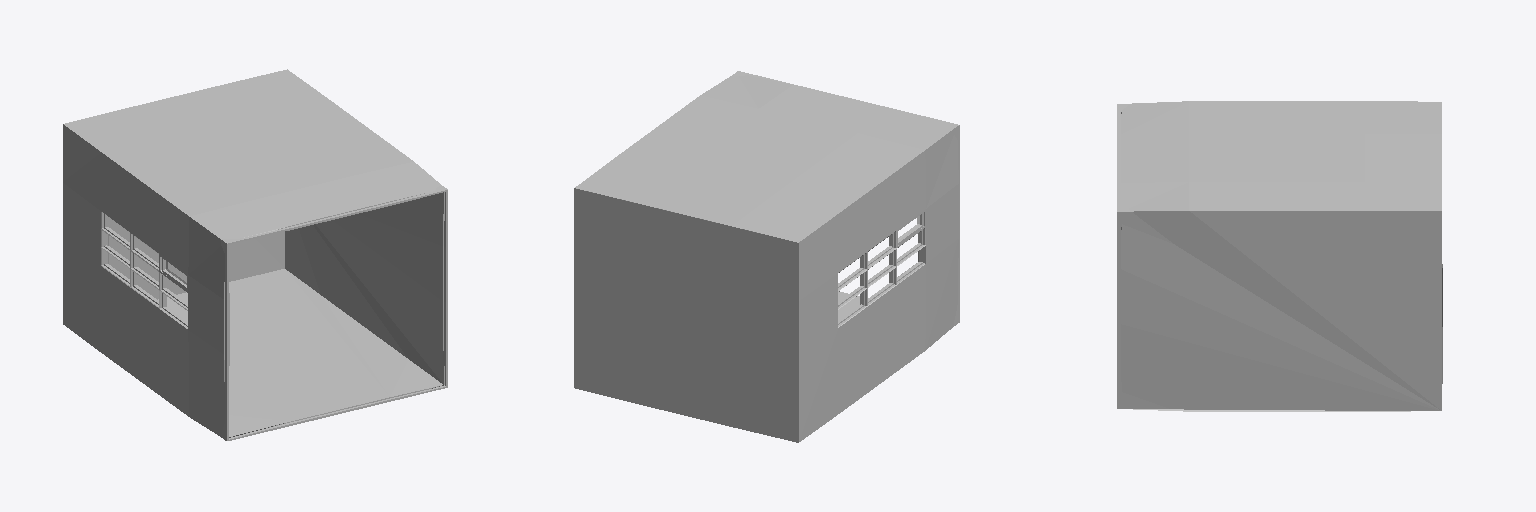
The model's file is Room.obj.
3 renders of one model, left to right at view 1: azimuth 30°, elevation 25°; view 2: azimuth 150°, elevation 25°; view 3: azimuth 270°, elevation 25°, orthographic.
Visible parts, largest first — view 1: Cube_Cube; view 2: Cube_Cube; view 3: Cube_Cube.
Part boxes in pixels (x1,y1,x2,y2): Cube_Cube: (63, 69, 447, 440); Cube_Cube: (574, 71, 959, 442); Cube_Cube: (1117, 101, 1442, 411).
Size of the model in its own units: 291 by 248 by 362.